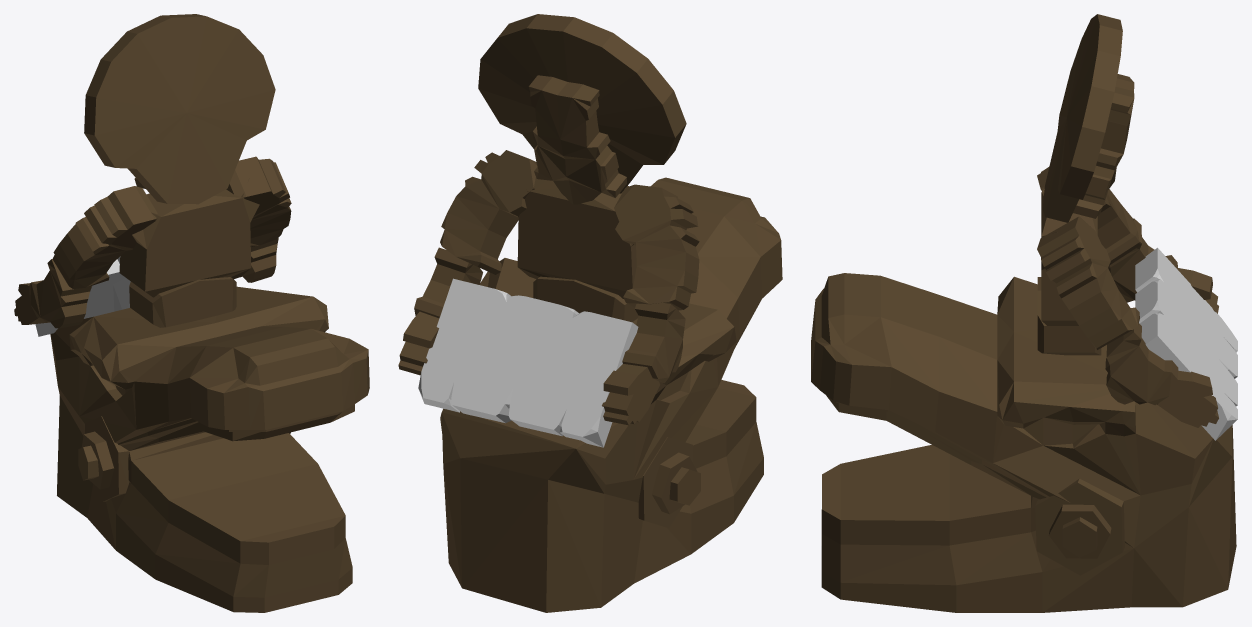
The model's file is BOOK_ADDON_STONEPLATE_01.OBJ.
3 views of the same model, side by side, from view 1: azimuth 30°, elevation 25°; view 2: azimuth 150°, elevation 25°; view 3: azimuth 270°, elevation 25° (orthographic). The views are drawn at different scales.
Visible parts, largest first — view 1: BOOK_ADDON_STONEPLATE_01; view 2: BOOK_ADDON_STONEPLATE_01; view 3: BOOK_ADDON_STONEPLATE_01.
Boxes of the visible parts, bbox=[...] form: BOOK_ADDON_STONEPLATE_01: bbox=[14, 14, 369, 612]; BOOK_ADDON_STONEPLATE_01: bbox=[398, 14, 782, 612]; BOOK_ADDON_STONEPLATE_01: bbox=[811, 14, 1237, 612].
Size of the model in its own units: 1.54 by 3.22 by 2.3.
